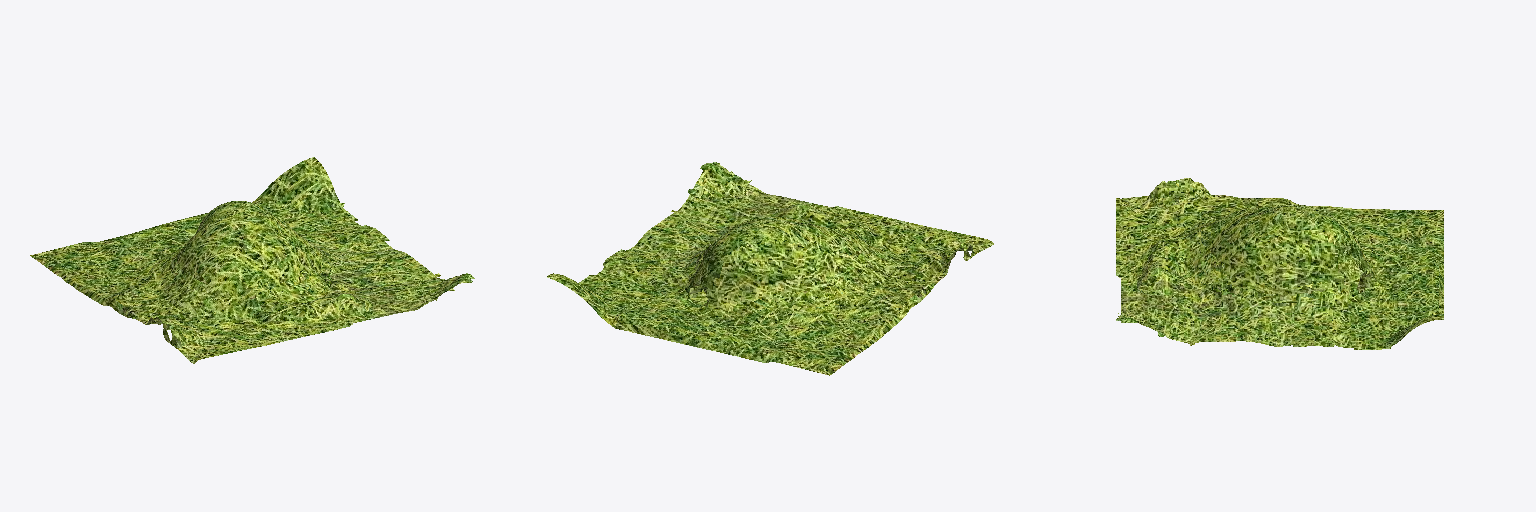
The picture shows the model from 3 angles: view 1: azimuth 30°, elevation 25°; view 2: azimuth 150°, elevation 25°; view 3: azimuth 270°, elevation 25°; orthographic projection.
Visible parts, largest first — view 1: Layer_1; view 2: Layer_1; view 3: Layer_1.
Part boxes in pixels (left/top/right/bottom): Layer_1: left=30, top=157, right=474, bottom=363; Layer_1: left=547, top=162, right=993, bottom=375; Layer_1: left=1116, top=178, right=1443, bottom=349.
Bounding box in the file's own units: 37.7 × 9.84 × 37.17.
1 materials, 1 textured.